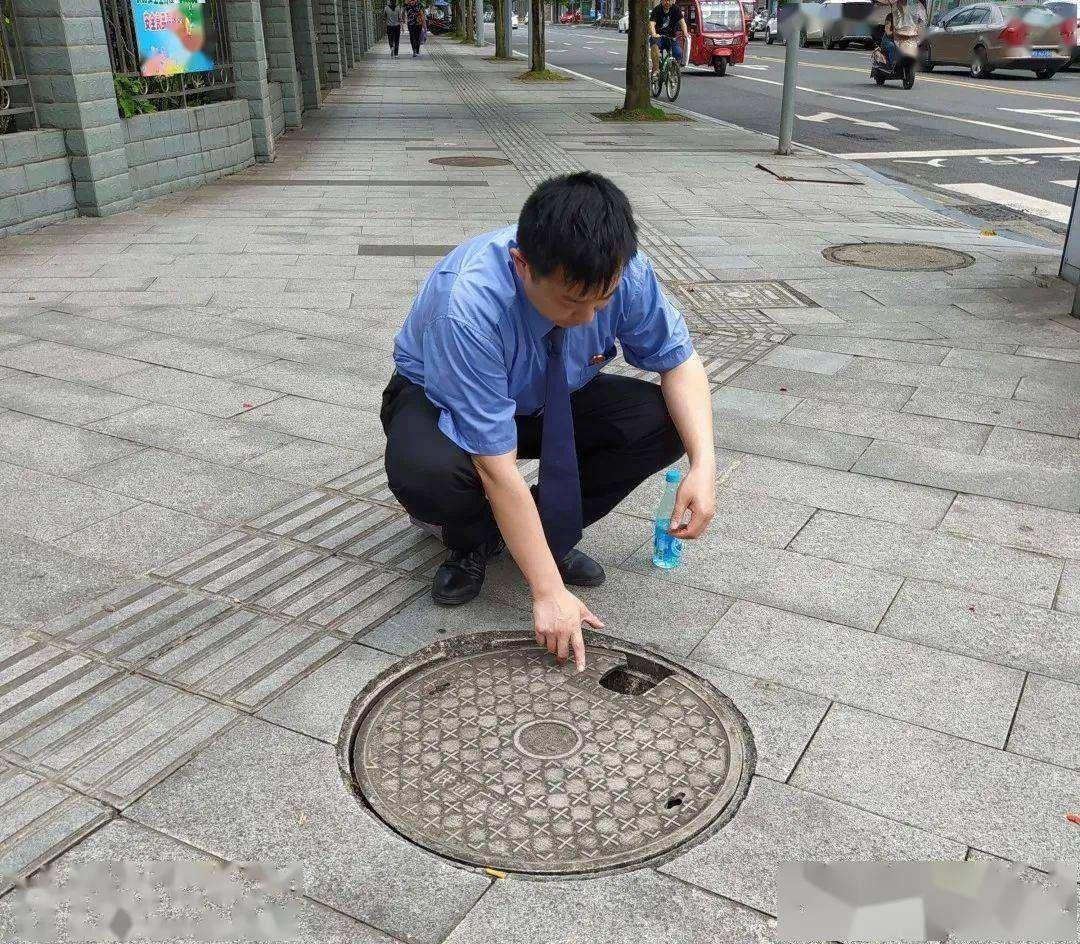wellcover: (344, 614, 762, 886), (814, 219, 980, 294), (417, 142, 523, 175)
